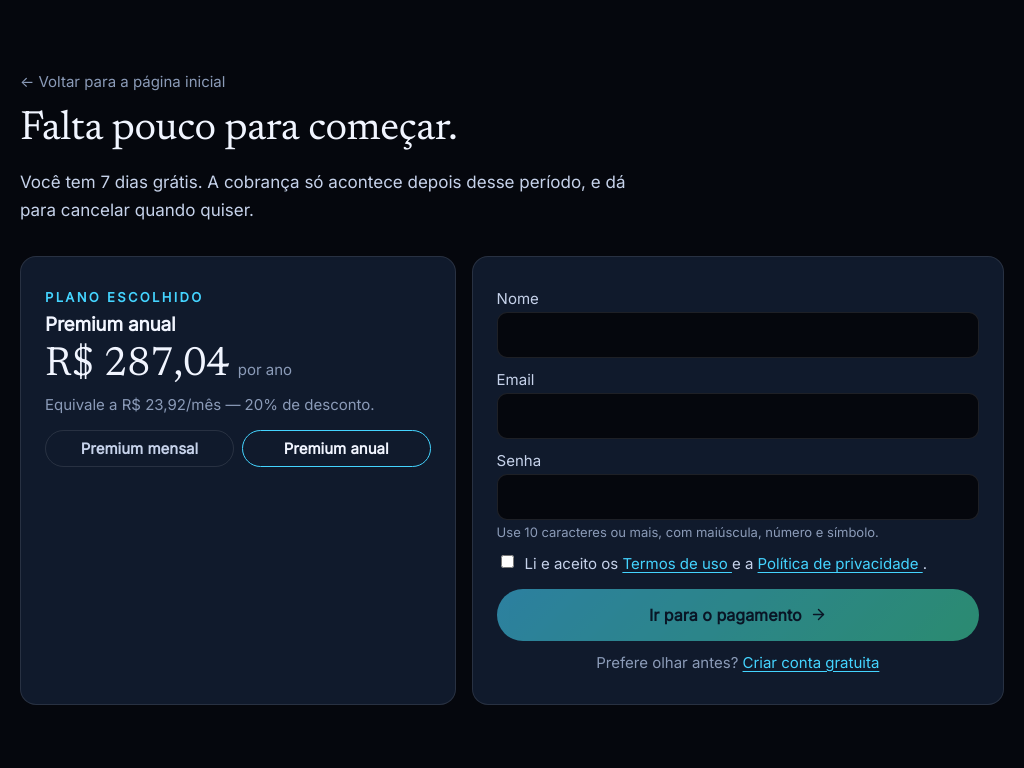
Test: landing checkout page › sends the visitor to the provider checkout on success
The image size is (1024, 768).
Type "Italo" into the field with test id "landing-checkout-name" at (738, 335), box [497,312,979,358]
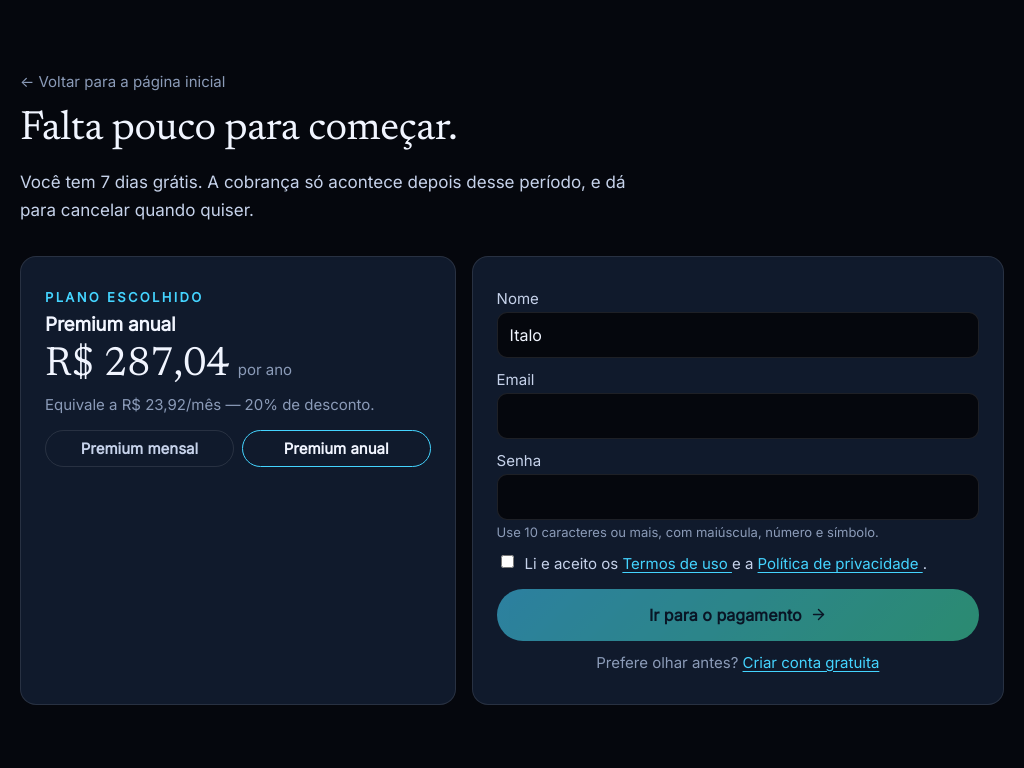
Type "italo@auraxis.com.br" into the field with test id "landing-checkout-email" at (738, 416), box [497,393,979,439]
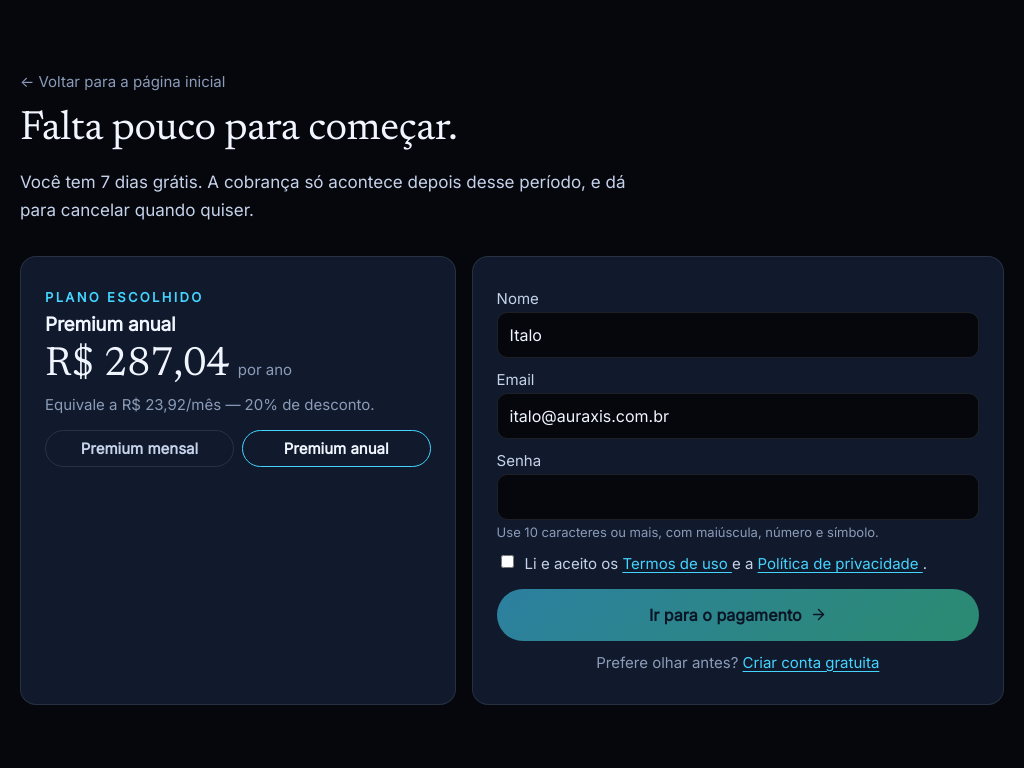
Type "Senha!Forte-123" into the password field with test id "landing-checkout-password" at (738, 497), box [497,474,979,520]
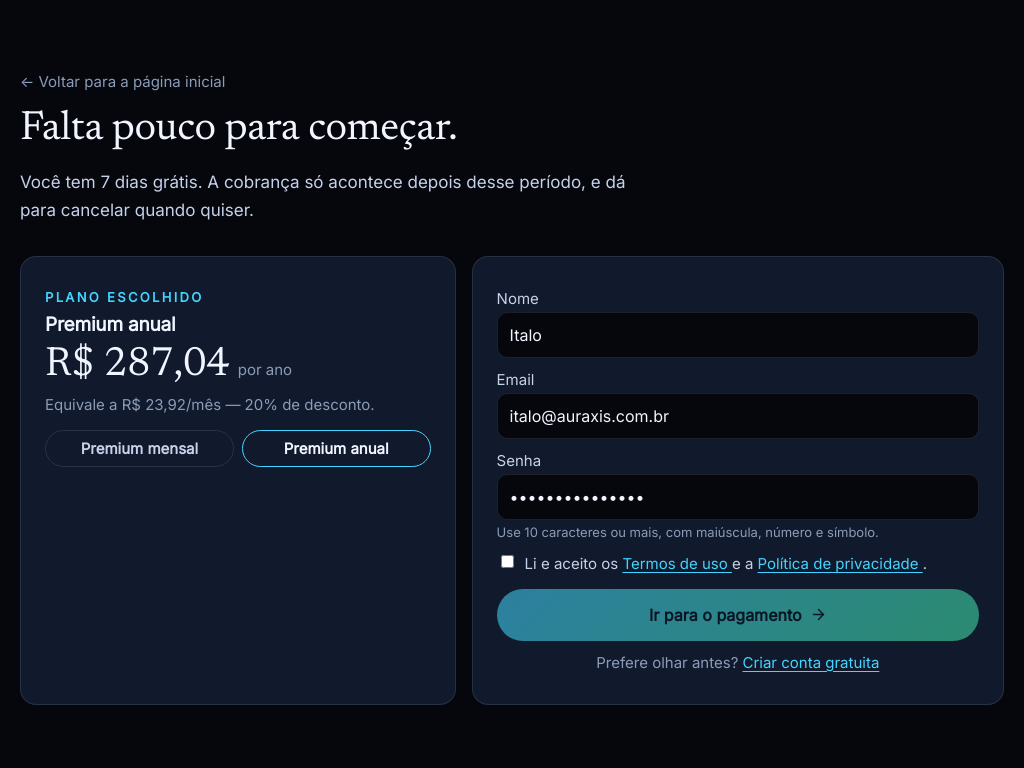
Click the checkbox with test id "landing-checkout-terms" at (507, 561), box [501,555,514,568]
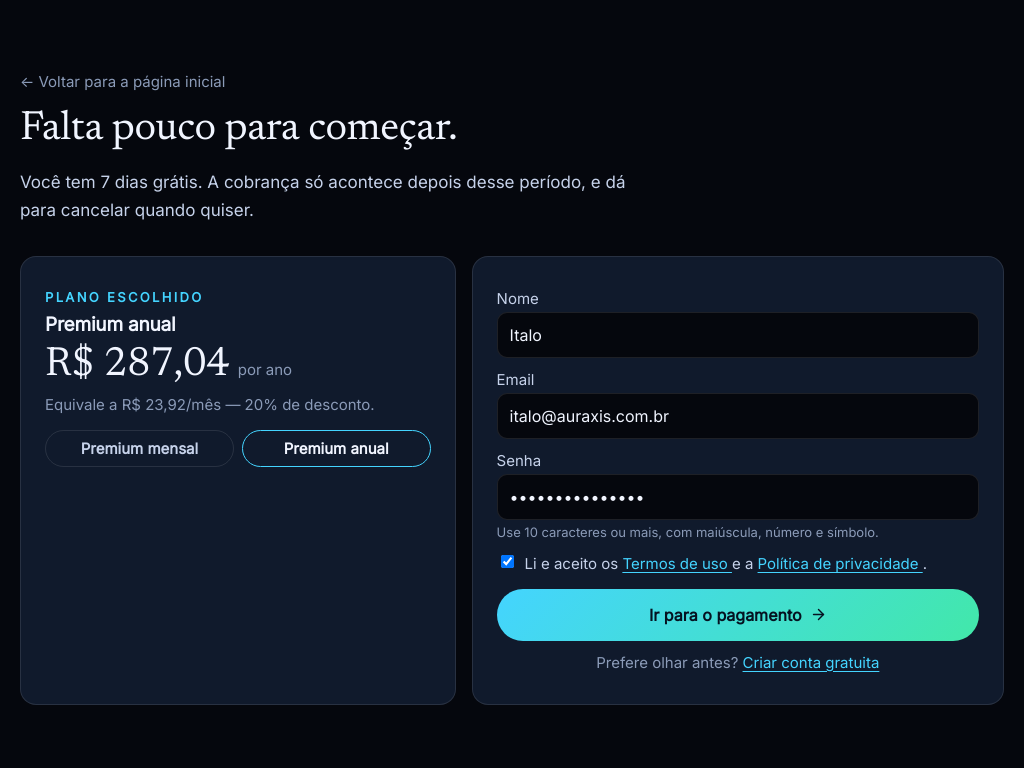
Submit the form, box [497,289,979,672]
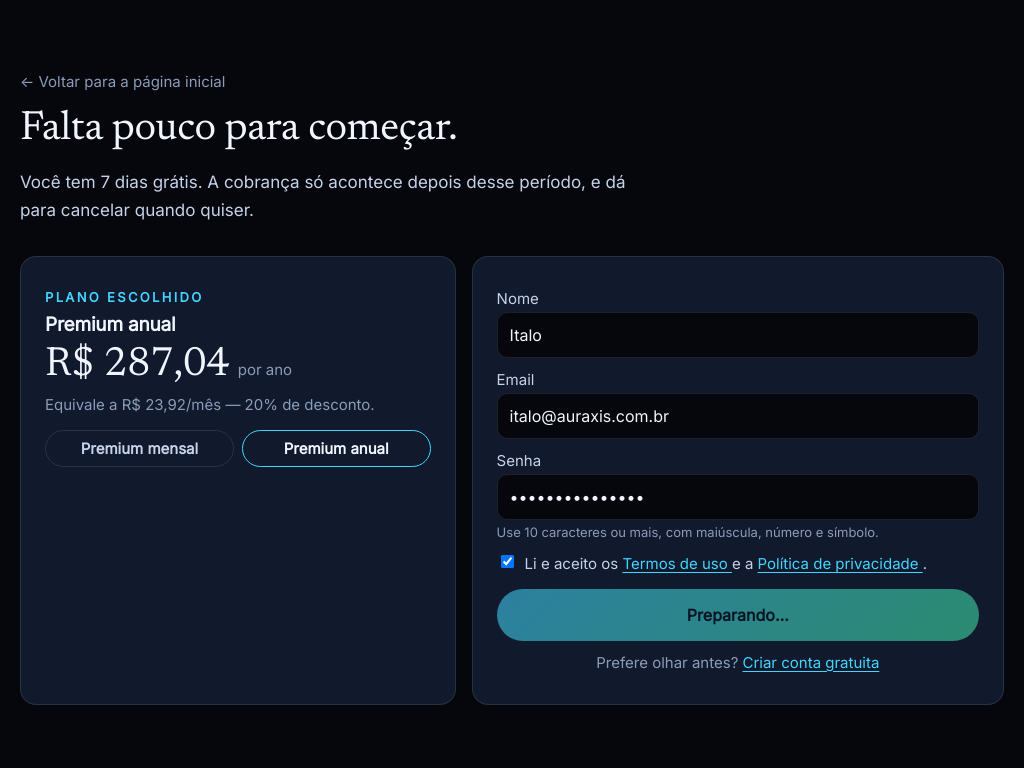
Now the text "Preparando…" is shown, box [497,589,979,641]
